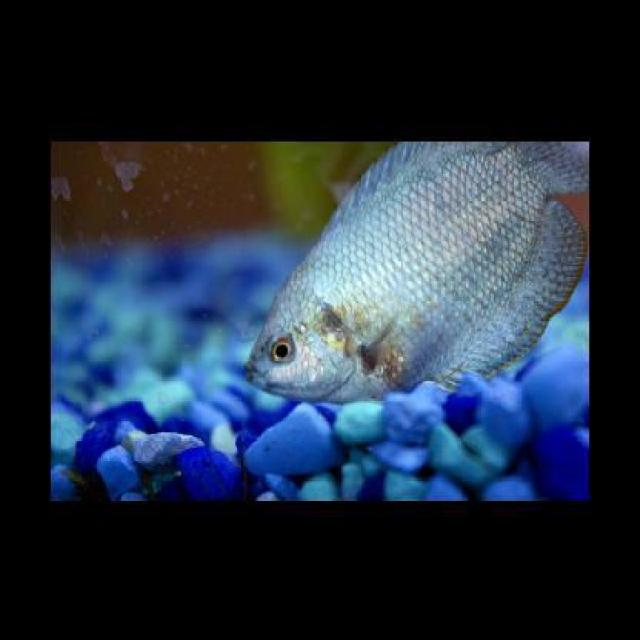Gourami: (242, 142, 586, 403)
